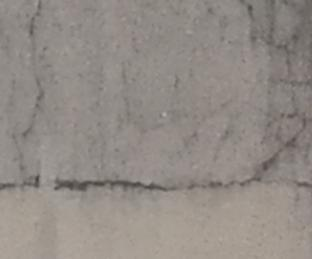fissura: (0, 90, 312, 199)
